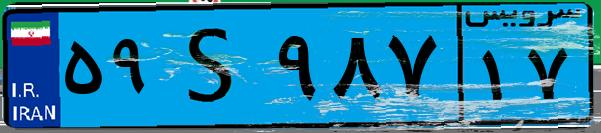1: (475, 38, 525, 113)
5: (57, 26, 110, 100)
7: (385, 28, 445, 110), (525, 38, 570, 115)
8: (330, 28, 385, 110)
9: (270, 28, 330, 110), (110, 28, 158, 98)
S: (158, 12, 270, 120)
